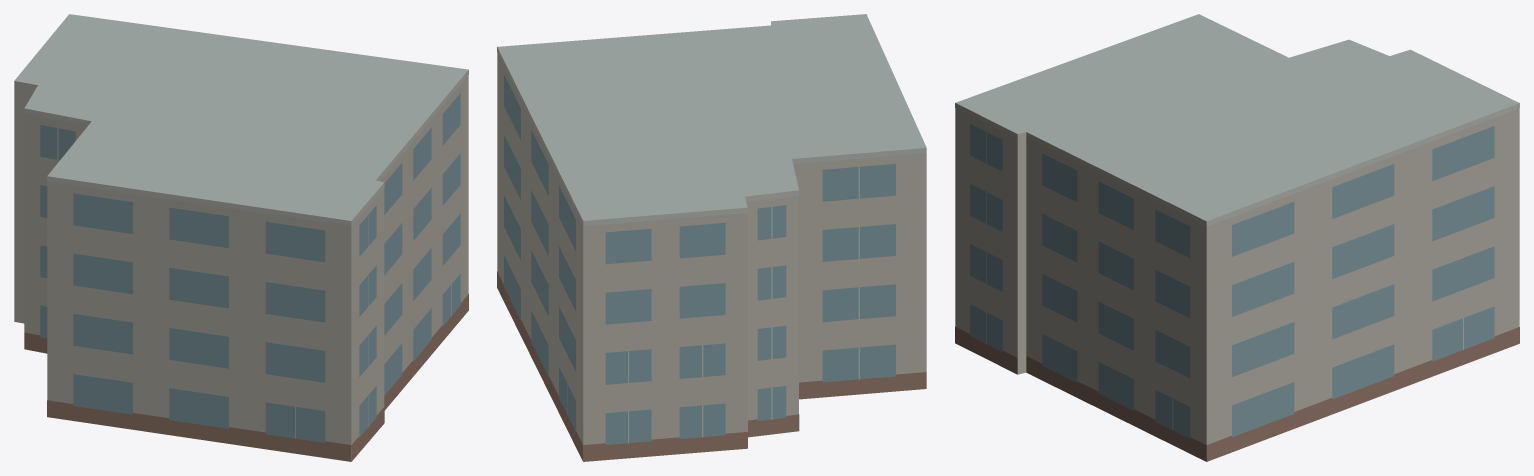
File: survey-upis-32618769.glb
3 views of the same model, side by side, from view 1: azimuth 30°, elevation 25°; view 2: azimuth 150°, elevation 25°; view 3: azimuth 270°, elevation 25° (orthographic).
Visible parts, largest first — view 1: survey-upis-32618769.tmp; view 2: survey-upis-32618769.tmp; view 3: survey-upis-32618769.tmp.
Boxes of the visible parts, x1,y1,x2,y2 form: survey-upis-32618769.tmp: [14, 14, 468, 461]; survey-upis-32618769.tmp: [497, 14, 926, 461]; survey-upis-32618769.tmp: [955, 14, 1519, 461].
Size of the model in its own units: 20.71 by 11.2 by 23.83.
